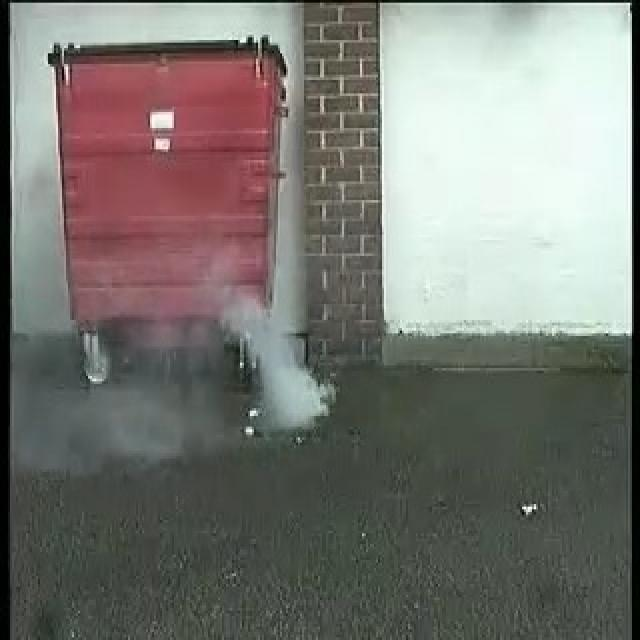smoke: (218, 286, 331, 436)
